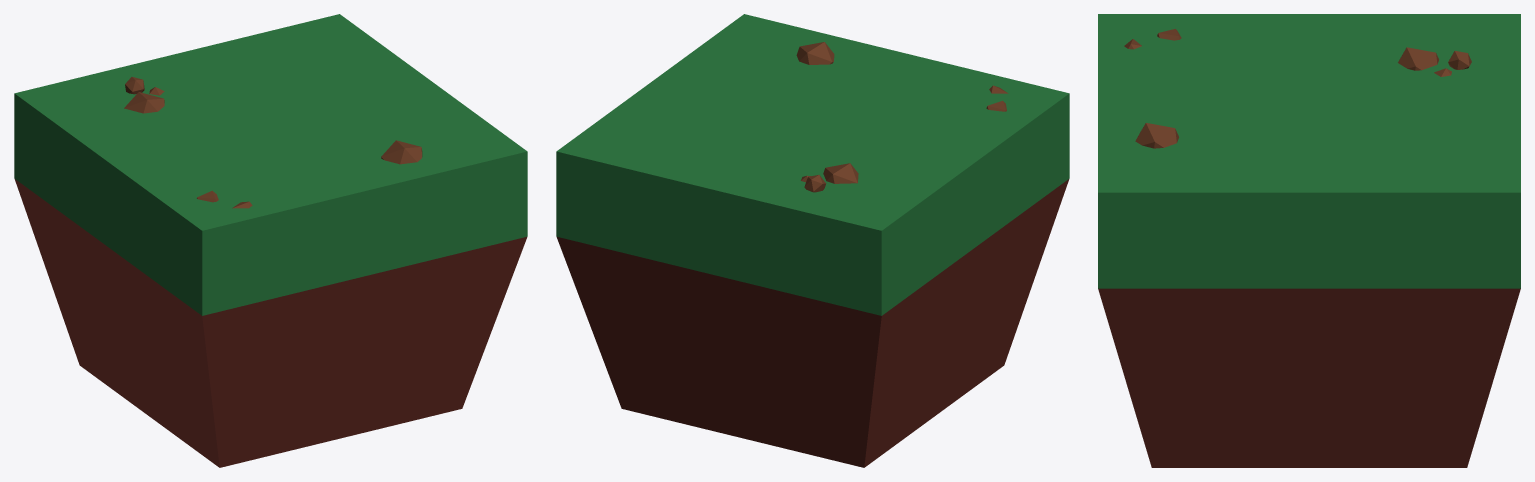
The model's file is tileground1_withrocks.fbx.
3 views of the same model, side by side, from view 1: azimuth 30°, elevation 25°; view 2: azimuth 150°, elevation 25°; view 3: azimuth 270°, elevation 25° (orthographic). The views are drawn at different scales.
Visible parts, largest first — view 1: chao1; view 2: chao1; view 3: chao1.
Part boxes in pixels (left/top/right/bottom): chao1: left=14, top=14, right=527, bottom=467; chao1: left=556, top=14, right=1069, bottom=467; chao1: left=1098, top=14, right=1520, bottom=467.
Bounding box in the file's own units: 4.65 × 3.79 × 4.65.
